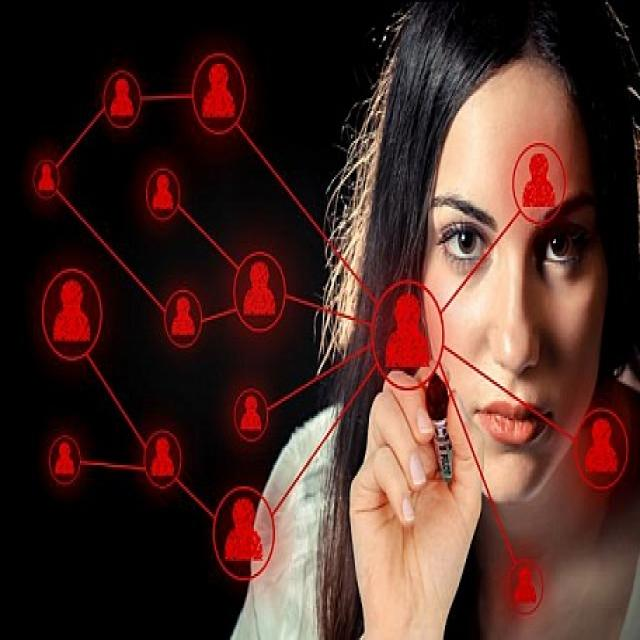Eyes: (431, 198, 596, 278)
